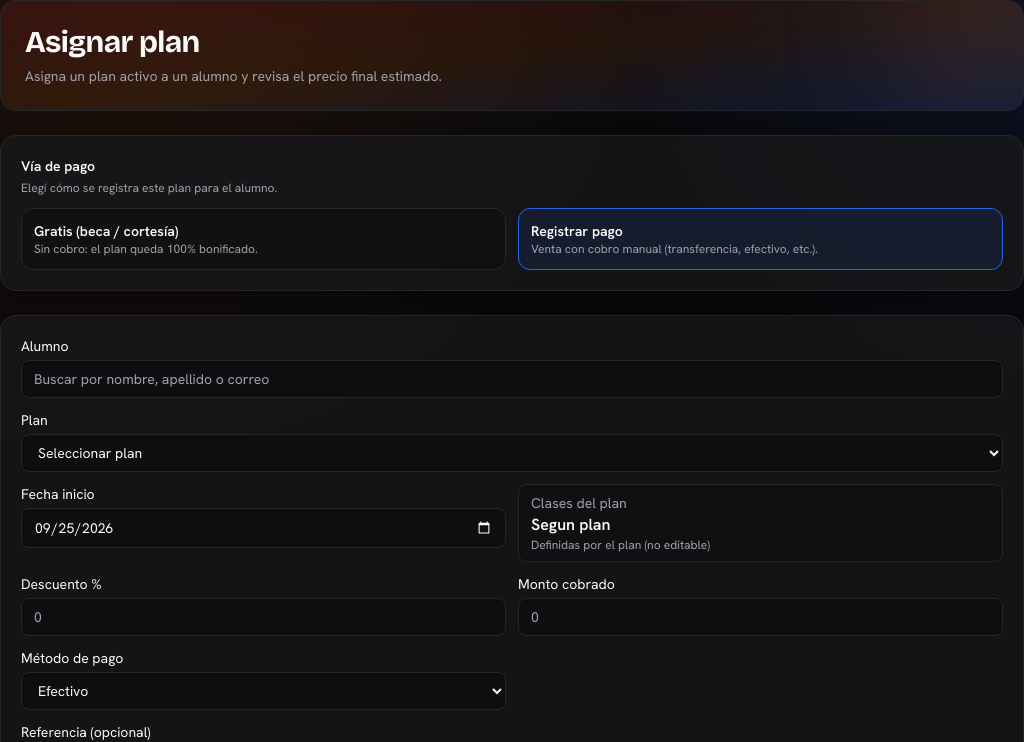
Test: AssignPlanPage - buscador de alumnos › busca alumnos server-side por nombre
Type "Javier" into the search field labelled "Alumno" at (512, 379), box top-left (21, 360), bottom-right (1003, 398)
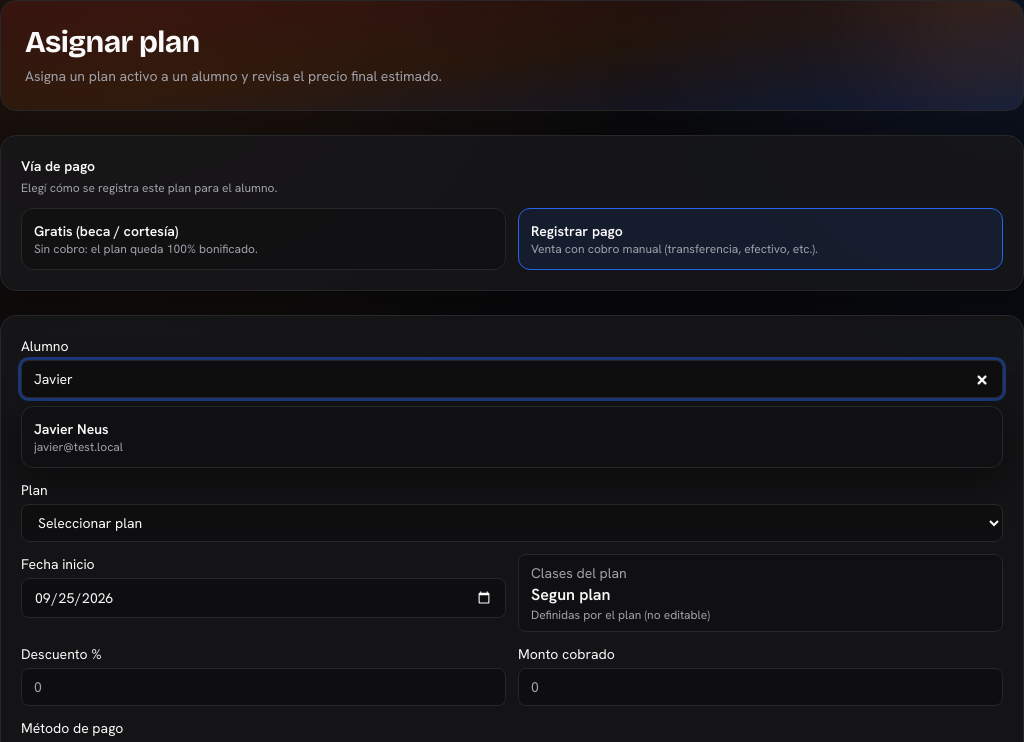
Check: the text "Javier Neus" is shown, box top-left (34, 420), bottom-right (109, 438)
Check: the text "javier@test.local" is shown, box top-left (34, 439), bottom-right (123, 455)
